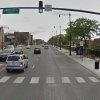Crosswalk: (5, 70, 100, 89)
